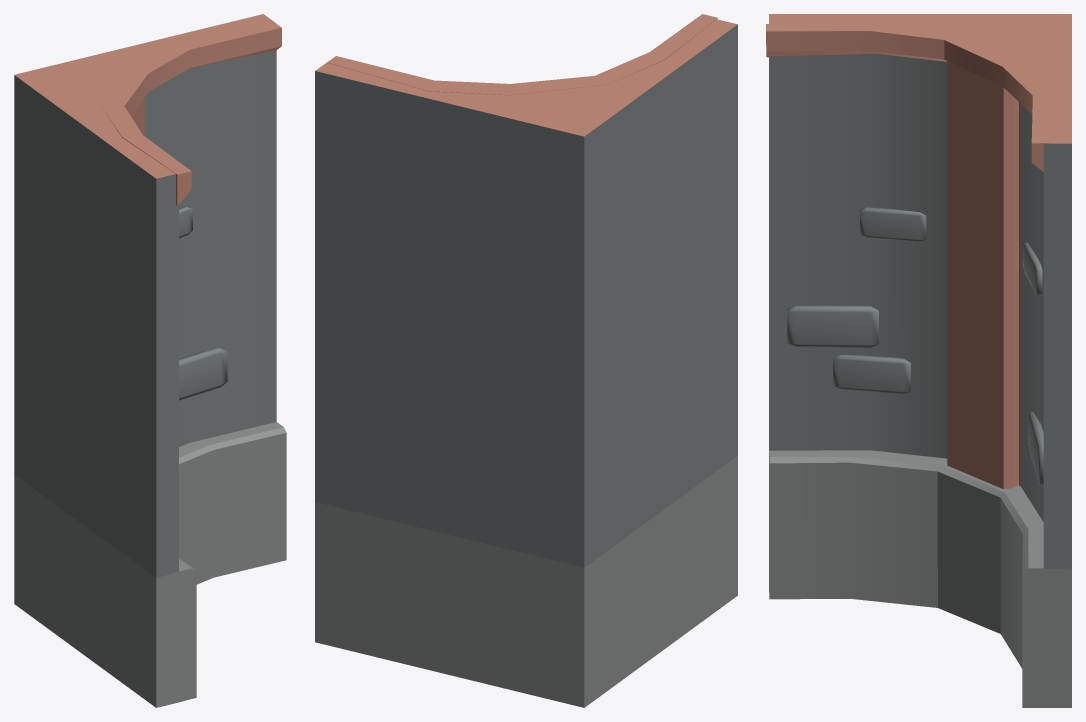
The model's file is Corner_01 1.fbx.
3 renders of one model, left to right at view 1: azimuth 30°, elevation 25°; view 2: azimuth 150°, elevation 25°; view 3: azimuth 270°, elevation 25°, orthographic. The views are drawn at different scales.
Parts seen in each view (by area): view 1: Cube; view 2: Cube; view 3: Cube.
Boxes of the visible parts, x1=… form: Cube: x1=14, y1=14, x2=286, y2=707; Cube: x1=315, y1=14, x2=737, y2=707; Cube: x1=766, y1=14, x2=1071, y2=707.
Bounding box in the file's own units: 223 × 452 × 222.
